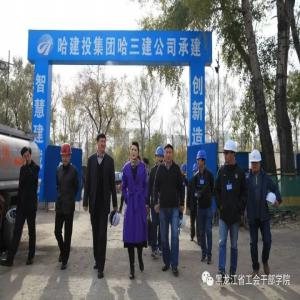blue: (196, 150, 208, 172), (156, 146, 166, 167), (181, 162, 188, 178)
none: (21, 146, 35, 168), (96, 133, 108, 156), (164, 143, 175, 166), (130, 141, 140, 162)
red: (60, 142, 73, 168)
white: (224, 138, 238, 168), (249, 149, 263, 177)
